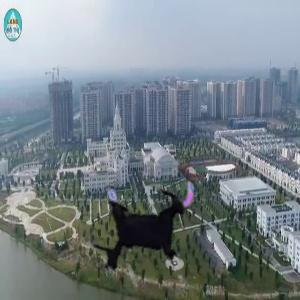drone: (75, 154, 212, 291)
